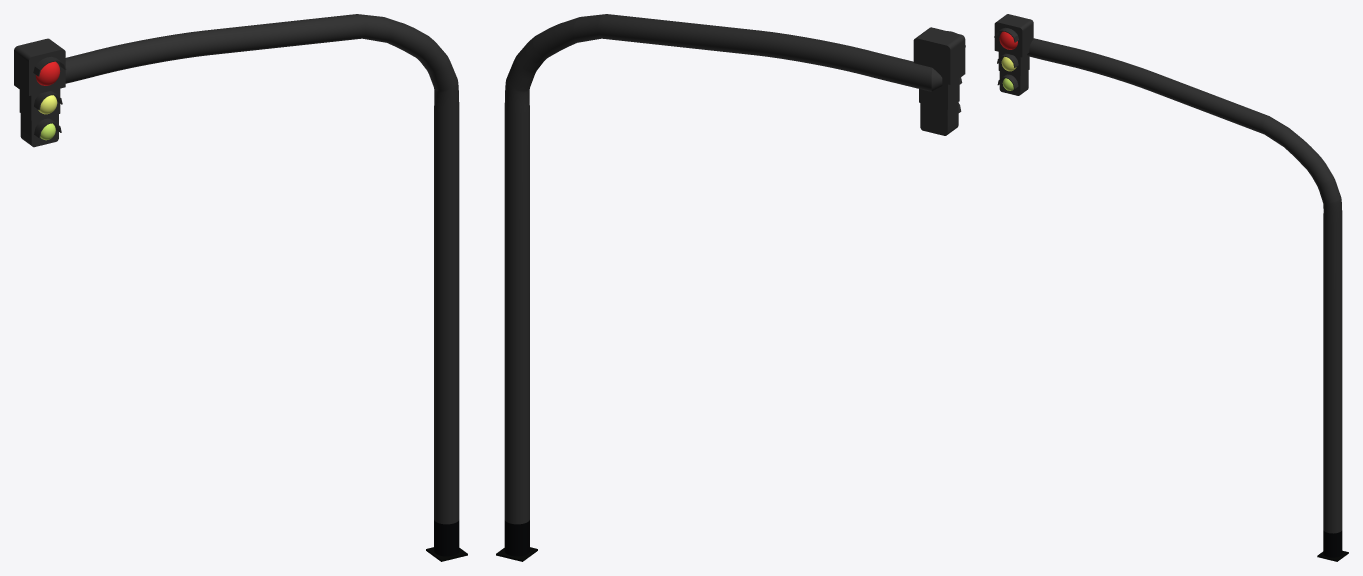
Rendered from SemaforoGrande.fbx.
The picture shows the model from 3 angles, left to right: view 1: azimuth 30°, elevation 25°; view 2: azimuth 150°, elevation 25°; view 3: azimuth 330°, elevation 25°; orthographic projection. The views are drawn at different scales.
Visible parts, largest first — view 1: Semaforo.002; view 2: Semaforo.002; view 3: Semaforo.002.
Boxes of the visible parts, x1=… form: Semaforo.002: x1=14, y1=14, x2=467, y2=561; Semaforo.002: x1=496, y1=14, x2=965, y2=561; Semaforo.002: x1=994, y1=14, x2=1348, y2=561.
Size of the model in its own units: 420 by 550 by 45.38.
Materials: 2 (2 with a texture image).
